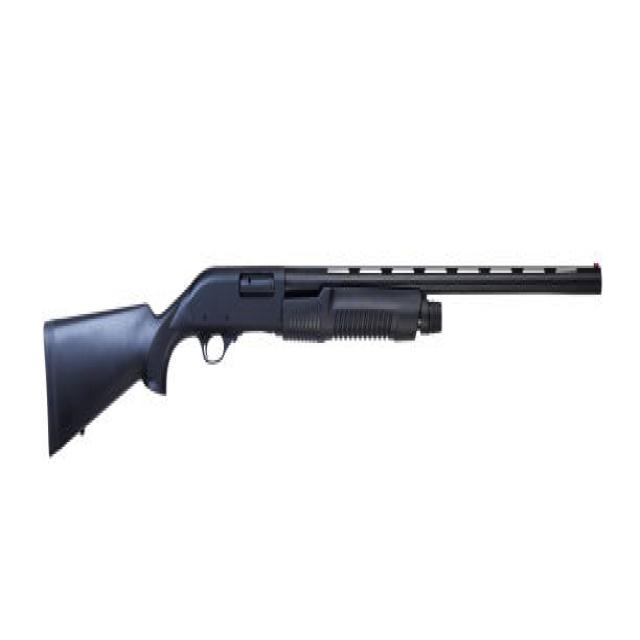rifle: (40, 241, 608, 470)
